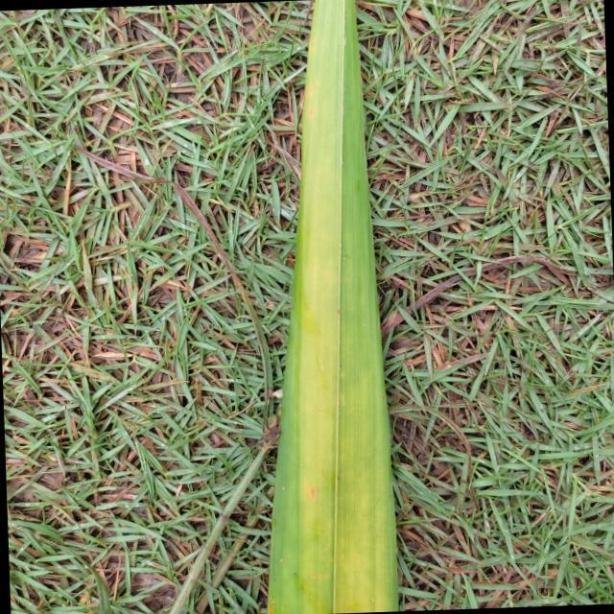nitrogen: (269, 0, 398, 614)
